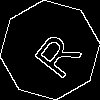R: (25, 25, 83, 81)
